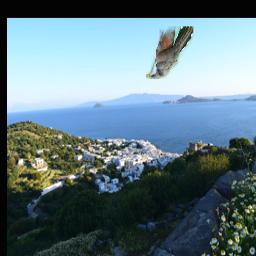Cuckoo: (146, 26, 194, 79)
